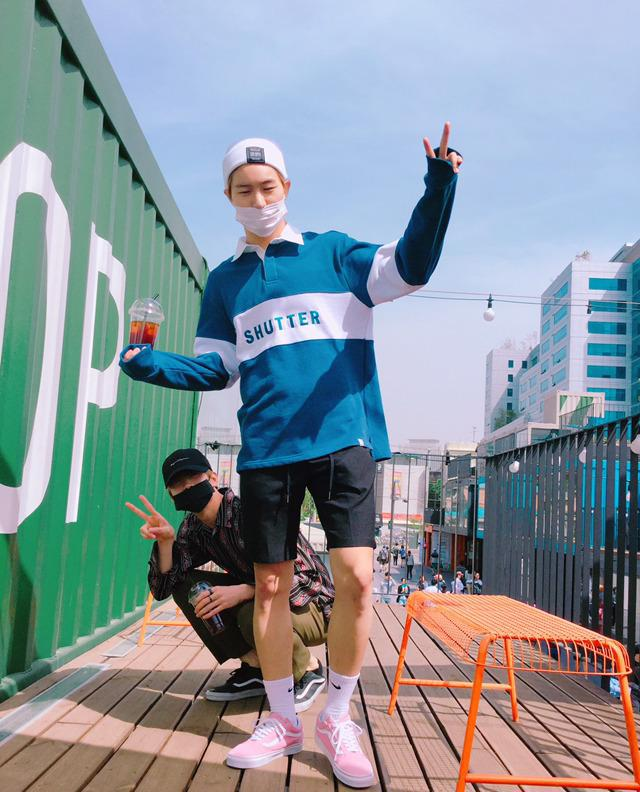WRONG: (230, 178, 288, 236), (170, 467, 217, 513)
